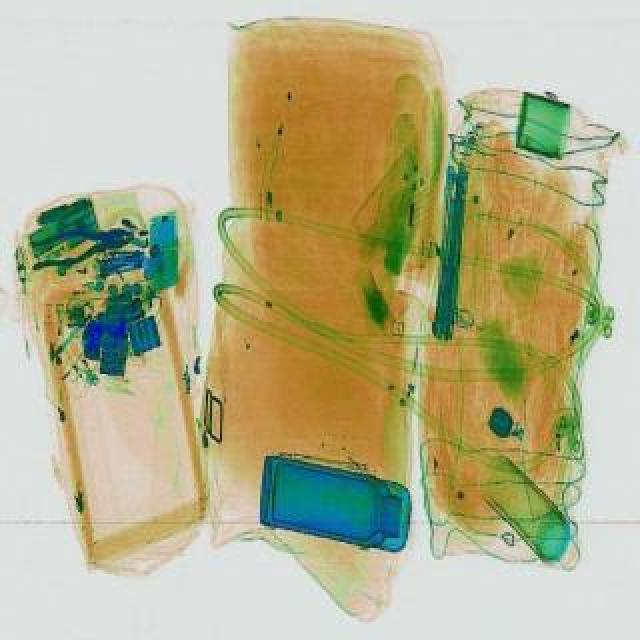wrench: (24, 222, 136, 274)
